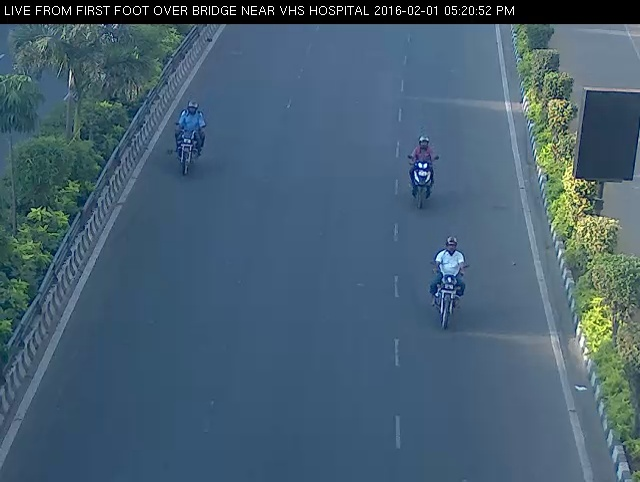Person: (390, 131, 460, 218), (420, 230, 476, 335), (163, 94, 212, 180)
